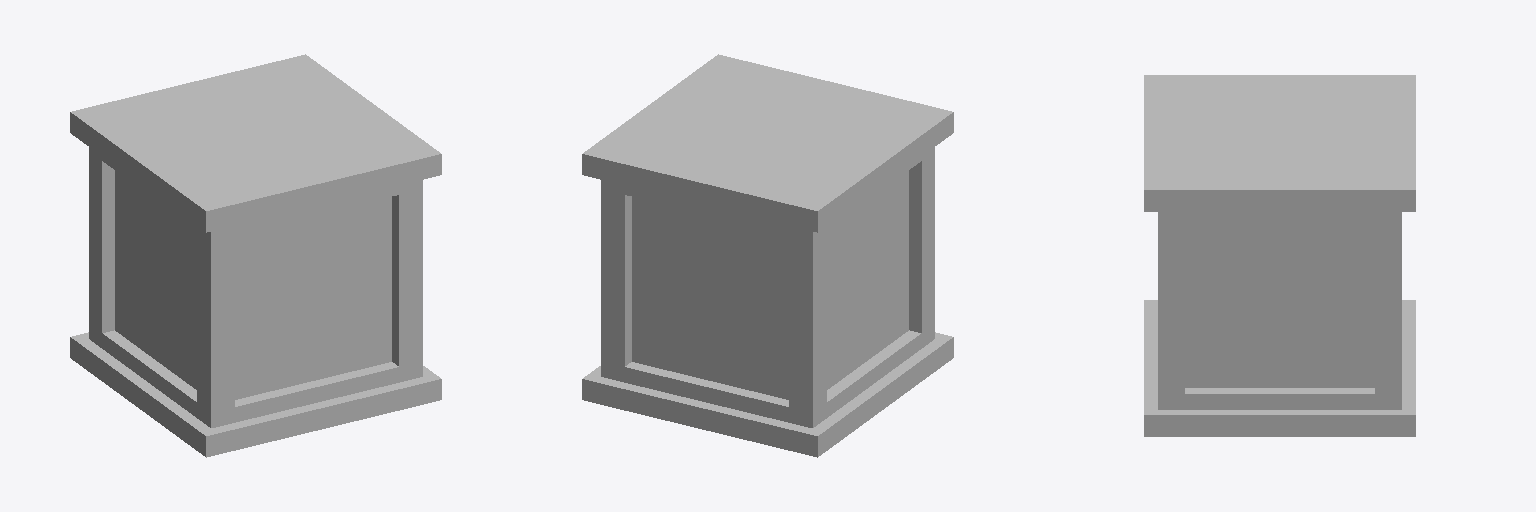
Rendered from crate_1.obj.
3 views of the same model, side by side, from view 1: azimuth 30°, elevation 25°; view 2: azimuth 150°, elevation 25°; view 3: azimuth 270°, elevation 25° (orthographic).
Parts seen in each view (by area): view 1: Crate_1_Cube.005; view 2: Crate_1_Cube.005; view 3: Crate_1_Cube.005.
Part boxes in pixels (bbox=[...]): Crate_1_Cube.005: bbox=[70, 54, 441, 457]; Crate_1_Cube.005: bbox=[582, 54, 953, 457]; Crate_1_Cube.005: bbox=[1144, 75, 1415, 436].
Bounding box in the file's own units: 1 × 0.9987 × 1.